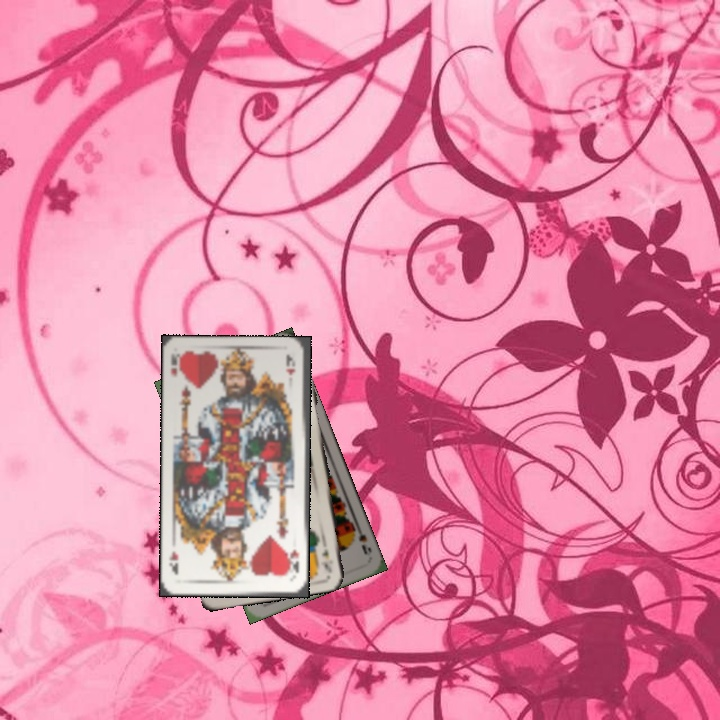EK: (318, 545, 335, 575)
HK: (284, 545, 302, 579), (167, 350, 185, 379)
S9: (347, 520, 374, 557)
